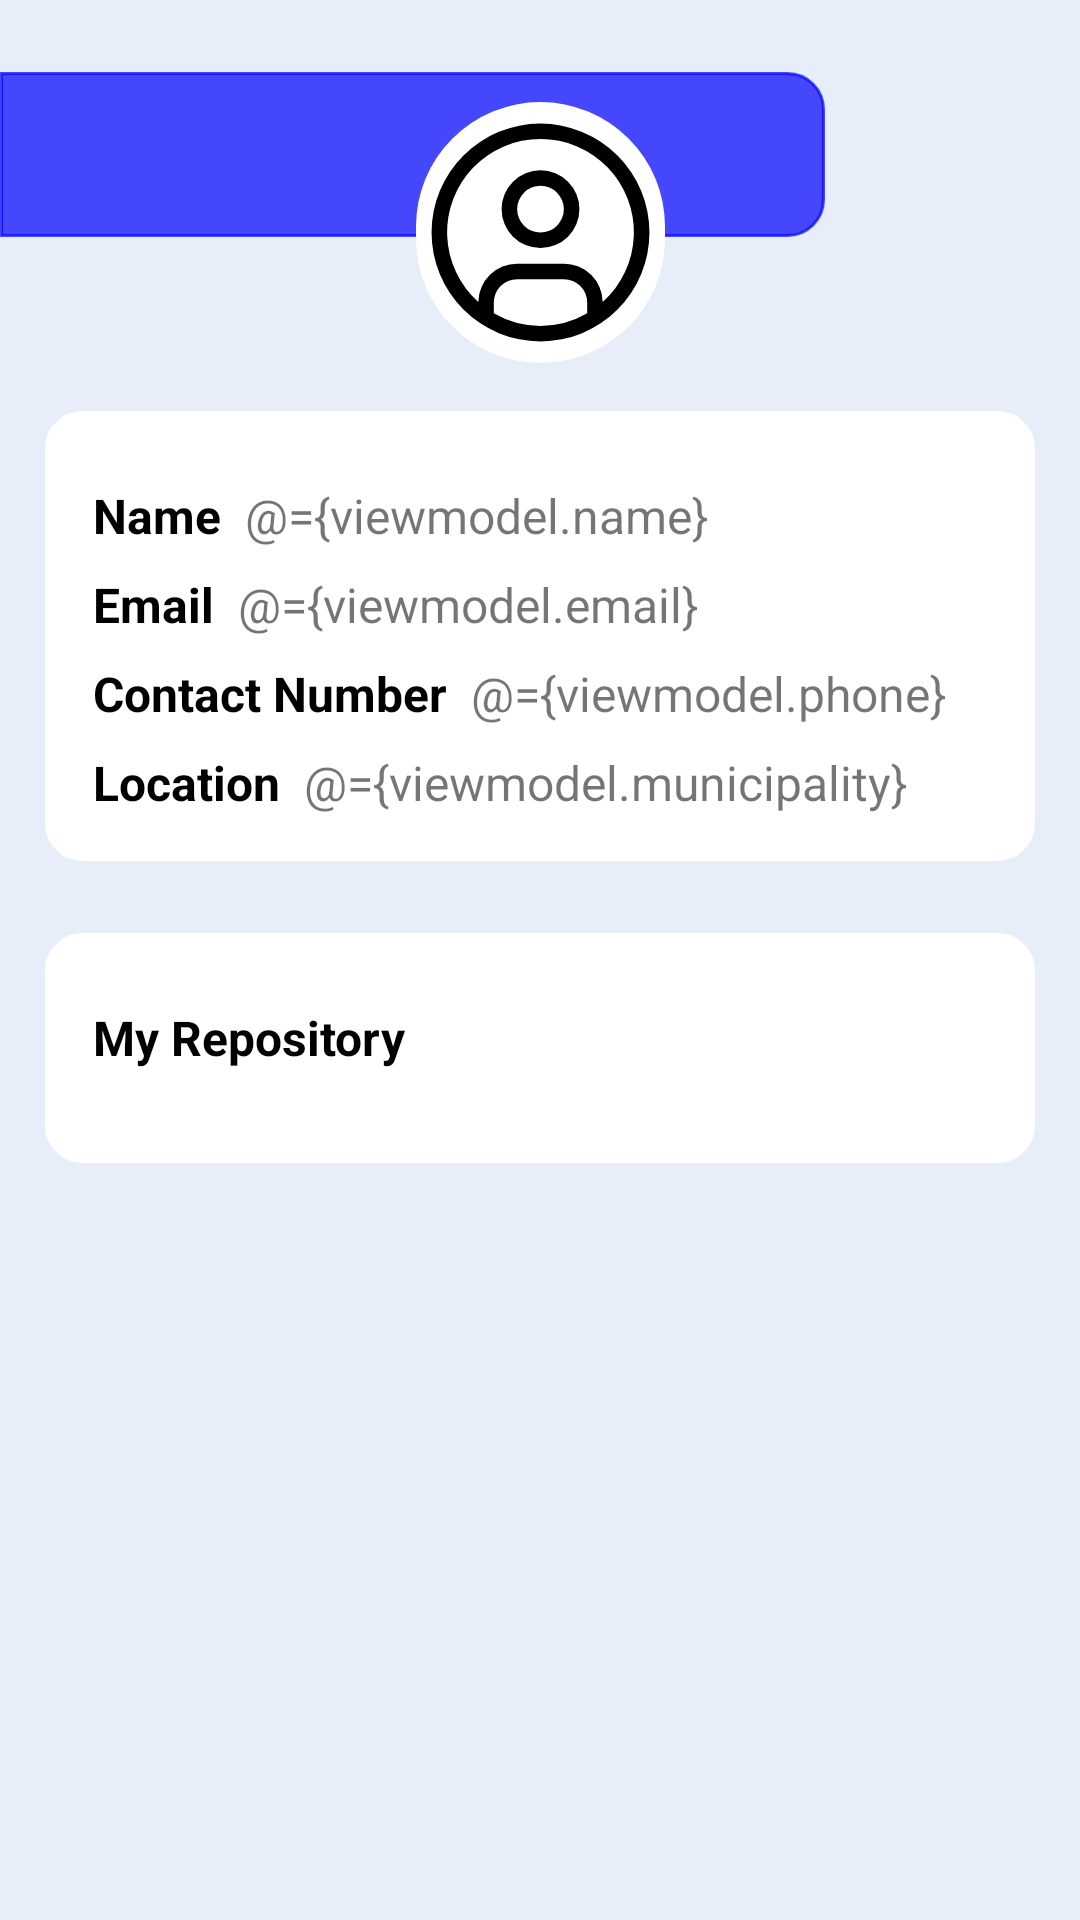

Screen size 1080px×1920px. Icon name, then its center in pixels as point (x, y):
user: point (540, 232)
